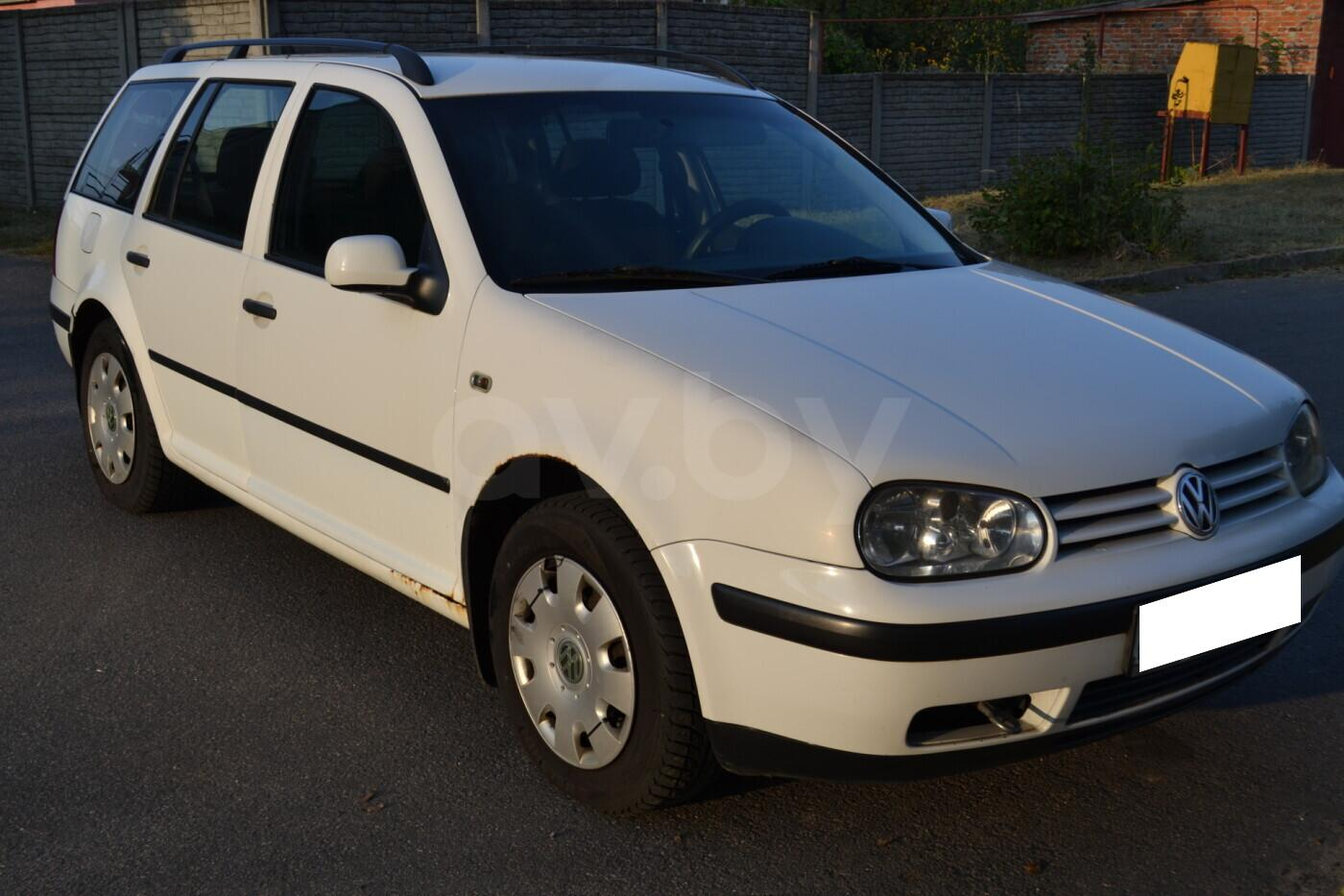Golf_1997-2006: (46, 46, 1344, 787)
